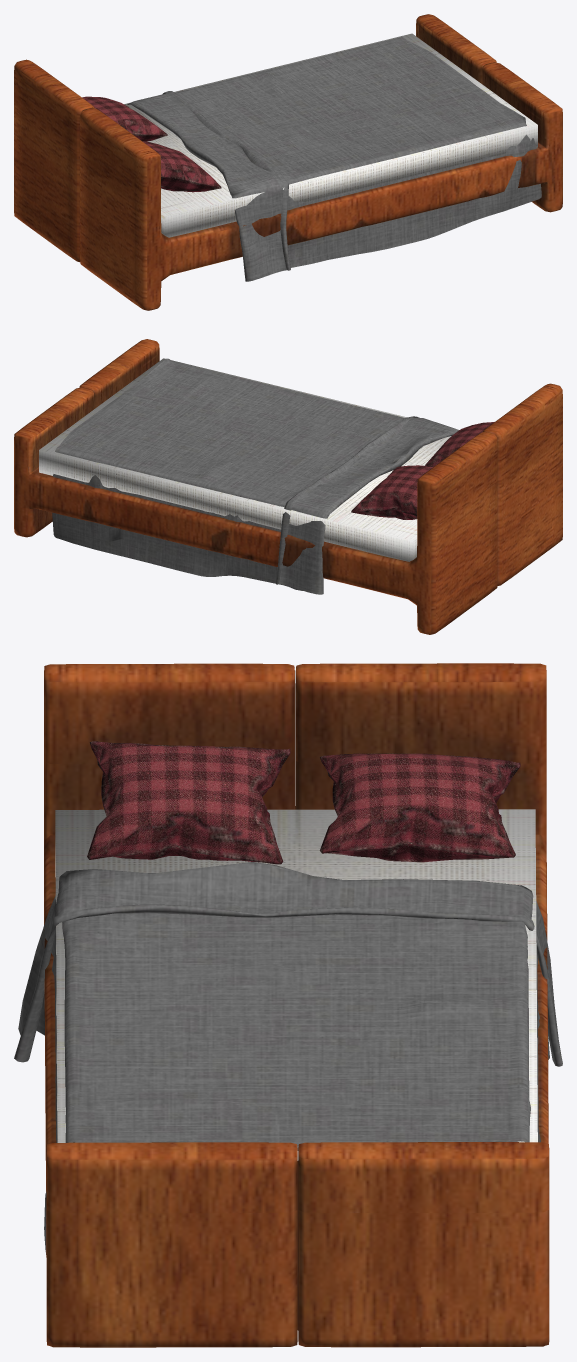
File: bed.obj
3 renders of one model, top to bottom at view 1: azimuth 30°, elevation 25°; view 2: azimuth 150°, elevation 25°; view 3: azimuth 270°, elevation 25°, orthographic. The views are drawn at different scales.
Parts seen in each view (by area): view 1: defaultMaterial.003_defaultMaterial.003, defaultMaterial.002_defaultMaterial.002, defaultMaterial.001_defaultMaterial.001, defaultMaterial.004_defaultMaterial.004, defaultMaterial_defaultMaterial; view 2: defaultMaterial.003_defaultMaterial.003, defaultMaterial.002_defaultMaterial.002, defaultMaterial.001_defaultMaterial.001, defaultMaterial.004_defaultMaterial.004, defaultMaterial_defaultMaterial; view 3: defaultMaterial.003_defaultMaterial.003, defaultMaterial.002_defaultMaterial.002, defaultMaterial.001_defaultMaterial.001, defaultMaterial_defaultMaterial, defaultMaterial.004_defaultMaterial.004.
Part boxes in pixels (x1,y1,x2,y2): defaultMaterial.003_defaultMaterial.003: [127, 37, 541, 281]; defaultMaterial.002_defaultMaterial.002: [14, 109, 562, 310]; defaultMaterial.001_defaultMaterial.001: [14, 14, 562, 202]; defaultMaterial.004_defaultMaterial.004: [124, 33, 537, 237]; defaultMaterial_defaultMaterial: [82, 96, 221, 192]; defaultMaterial.003_defaultMaterial.003: [52, 358, 458, 594]; defaultMaterial.002_defaultMaterial.002: [14, 432, 562, 634]; defaultMaterial.001_defaultMaterial.001: [14, 339, 562, 526]; defaultMaterial.004_defaultMaterial.004: [39, 358, 451, 561]; defaultMaterial_defaultMaterial: [351, 422, 494, 519]; defaultMaterial.003_defaultMaterial.003: [14, 862, 562, 1254]; defaultMaterial.002_defaultMaterial.002: [44, 755, 549, 1347]; defaultMaterial.001_defaultMaterial.001: [44, 663, 549, 1213]; defaultMaterial_defaultMaterial: [87, 741, 520, 864]; defaultMaterial.004_defaultMaterial.004: [55, 809, 537, 1160].
Bounding box in the file's own units: 2.97 × 1.04 × 1.75.
Materials: 5 (5 with a texture image).
